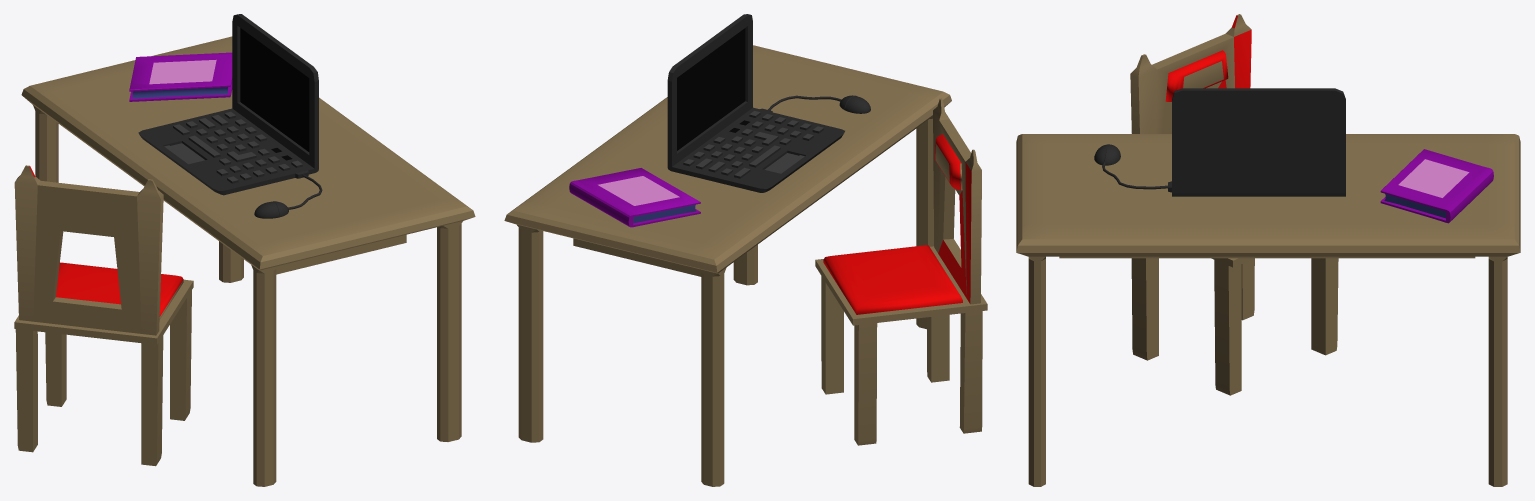
File: desk.gltf
The picture shows the model from 3 angles, left to right: view 1: azimuth 30°, elevation 25°; view 2: azimuth 150°, elevation 25°; view 3: azimuth 270°, elevation 25°; orthographic projection. The views are drawn at different scales.
Parts seen in each view (by area): view 1: Mesa, Silla, PC, LibroMesa; view 2: Mesa, Silla, PC, LibroMesa; view 3: Mesa, PC, Silla, LibroMesa.
Boxes of the visible parts, <box> form: Mesa: <box>21,36,475,486</box>; Silla: <box>14,165,193,466</box>; PC: <box>138,14,322,218</box>; LibroMesa: <box>129,52,232,101</box>; Mesa: <box>504,45,951,486</box>; Silla: <box>815,98,987,445</box>; PC: <box>667,14,870,192</box>; LibroMesa: <box>569,168,700,227</box>; Mesa: <box>1016,134,1520,486</box>; PC: <box>1094,88,1345,196</box>; Silla: <box>1130,14,1338,395</box>; LibroMesa: <box>1380,149,1493,223</box>.
Bounding box in the file's own units: 82.17 × 74.47 × 95.15.
